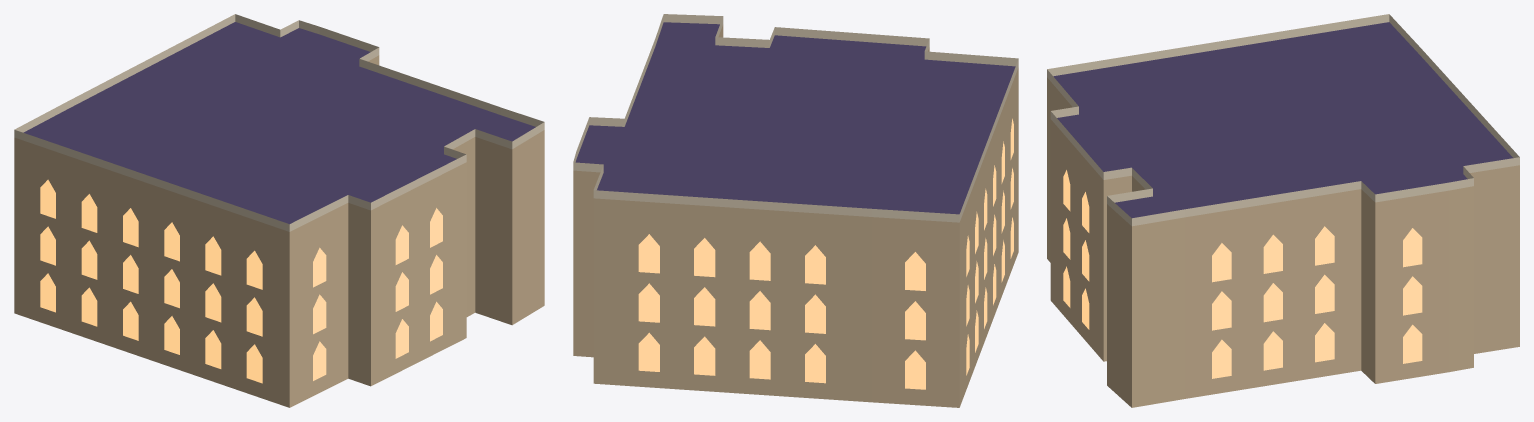
The picture shows the model from 3 angles, left to right: view 1: azimuth 30°, elevation 25°; view 2: azimuth 150°, elevation 25°; view 3: azimuth 270°, elevation 25°; orthographic projection. The views are drawn at different scales.
Visible parts, largest first — view 1: campus/b-099-0; view 2: campus/b-099-0; view 3: campus/b-099-0.
Boxes of the visible parts, box(x1,y1,x2,y2) form: campus/b-099-0: box(14, 14, 544, 407); campus/b-099-0: box(573, 14, 1018, 407); campus/b-099-0: box(1047, 14, 1519, 407).
Size of the model in its own units: 29.91 by 12.95 by 29.25.
